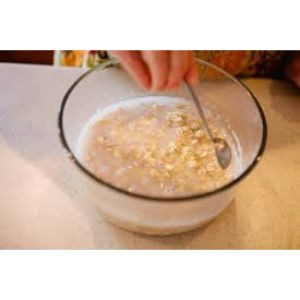oat_brain food: (106, 114, 242, 175)
